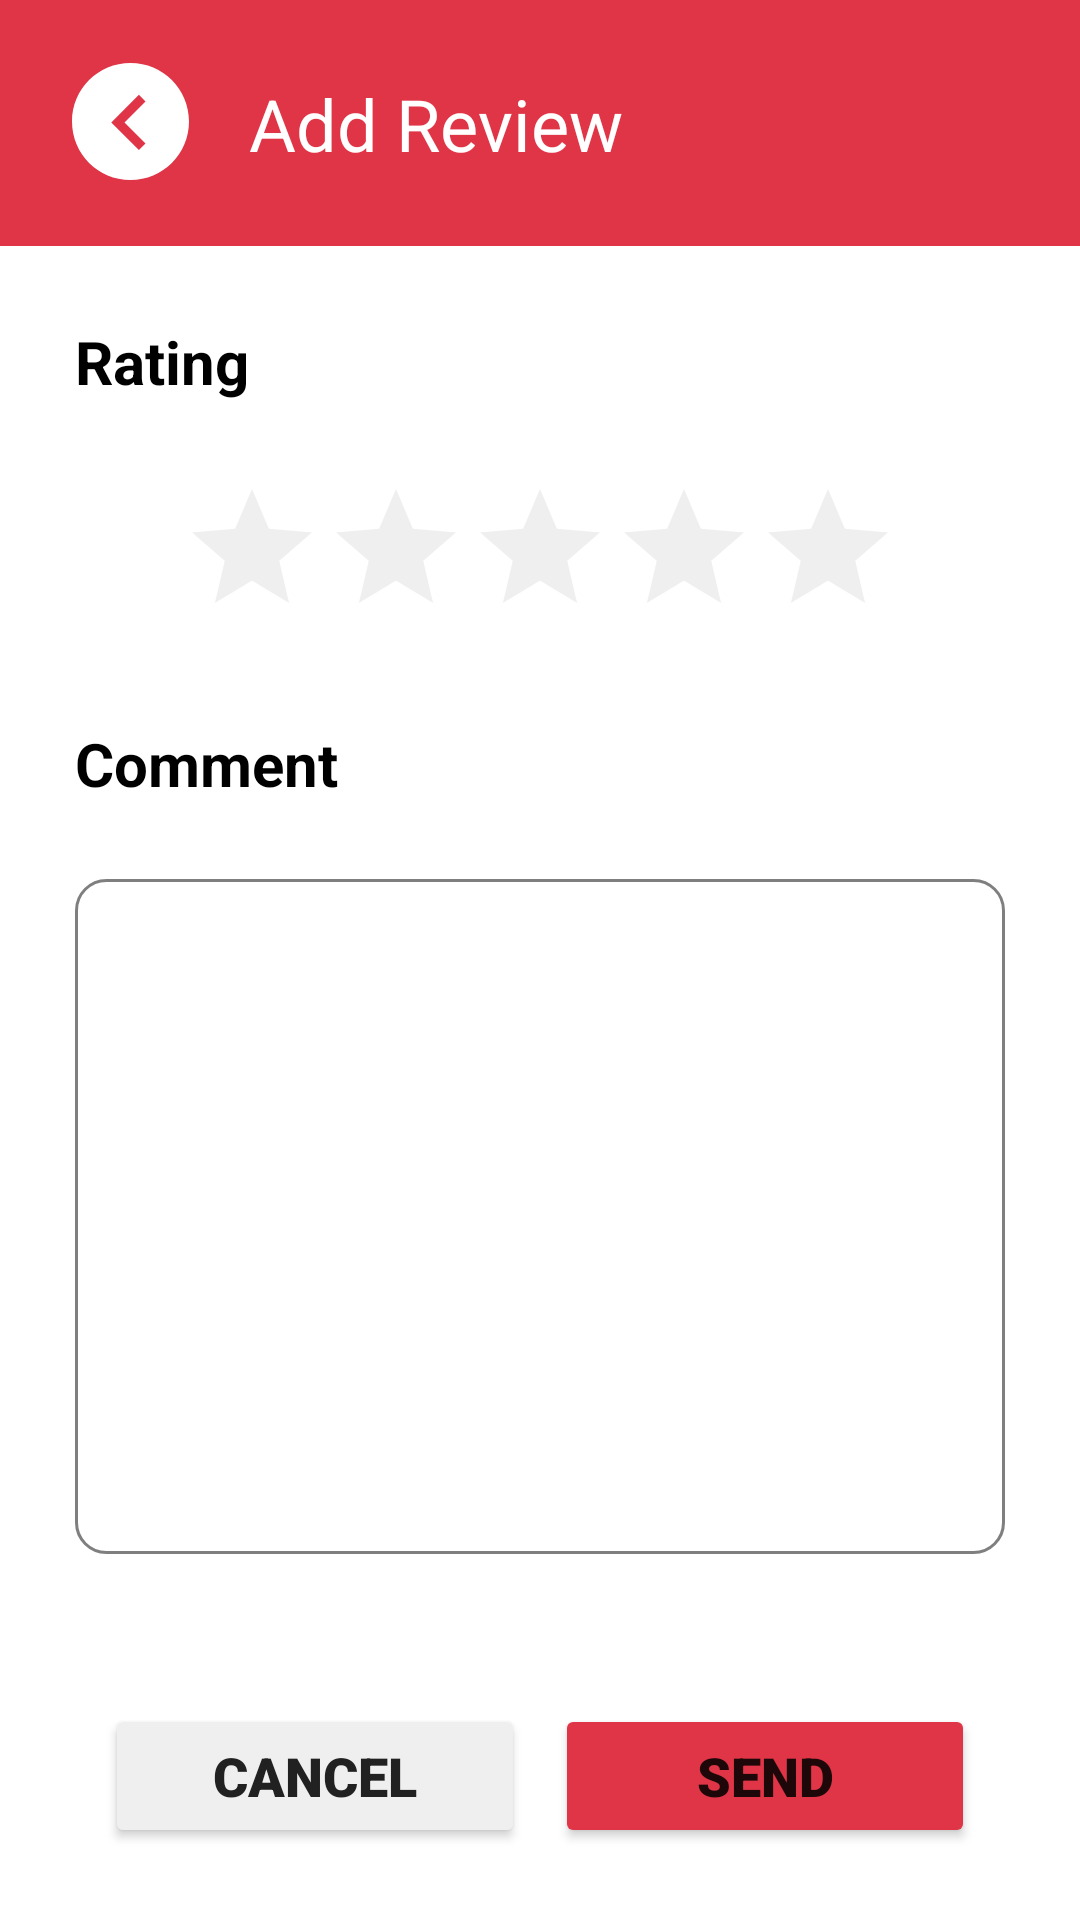

Point at icon controls on the screen. Image size 1080*1920, points as point (x, y).
back: point (130, 121)
